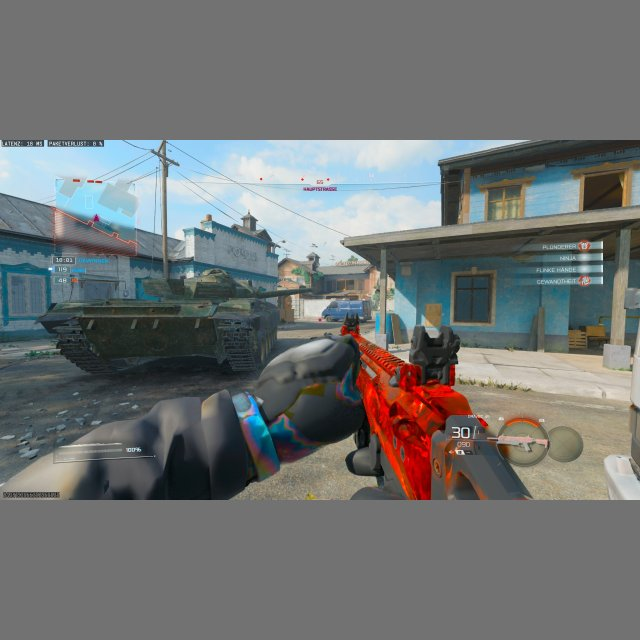player: (340, 315, 361, 336)
